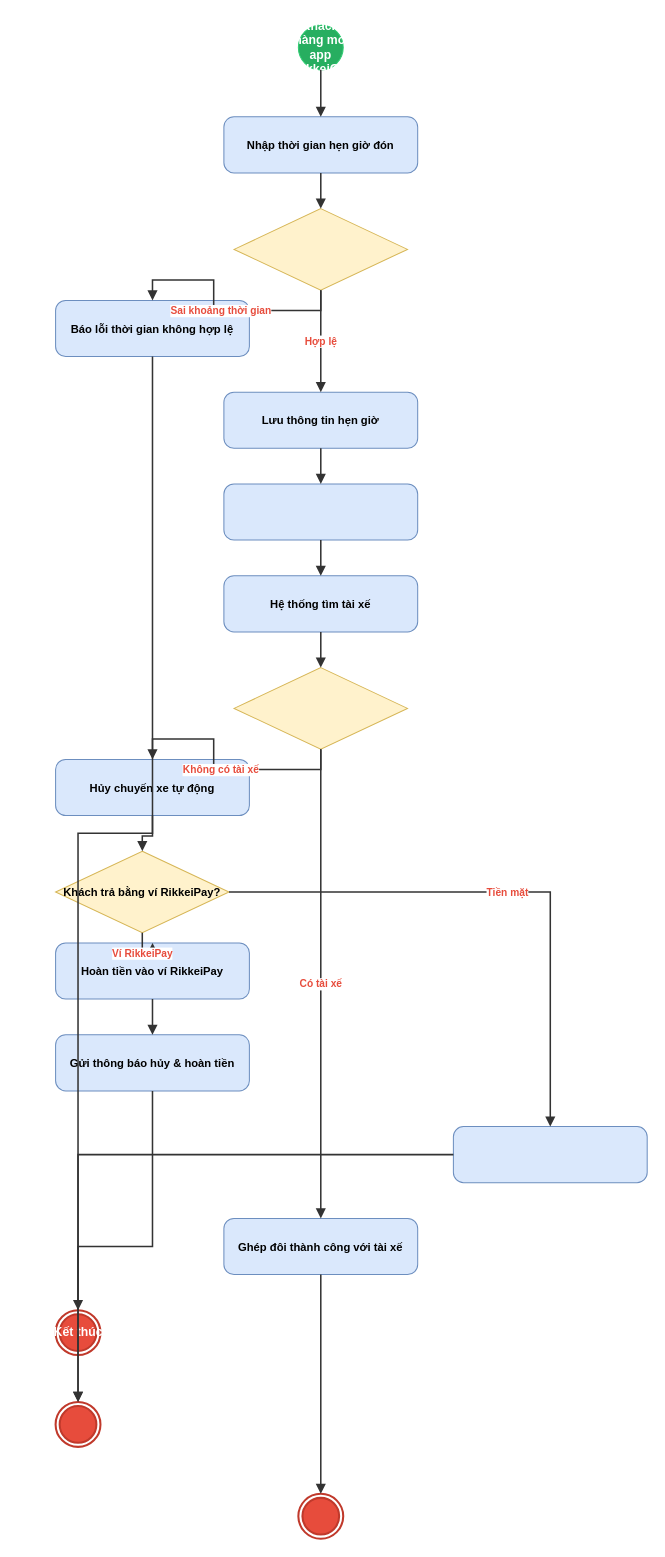
This 665x1557 diagram has some shape labels left out. Each missing label, with the centre of its shape:
"Có tài xế nhận không?" belongs at (x=320, y=708).
"Gửi thông báo hủy chuyến" belongs at (x=549, y=1154).
"Kiểm tra quy tắc 30p - 24h?" belongs at (x=320, y=249).
"Kết thúc hủy chuyến" belongs at (x=77, y=1423).
"Kết thúc thành công" belongs at (x=320, y=1515).
"Đếm ngược đến trước 15 phút" belongs at (x=320, y=511).
